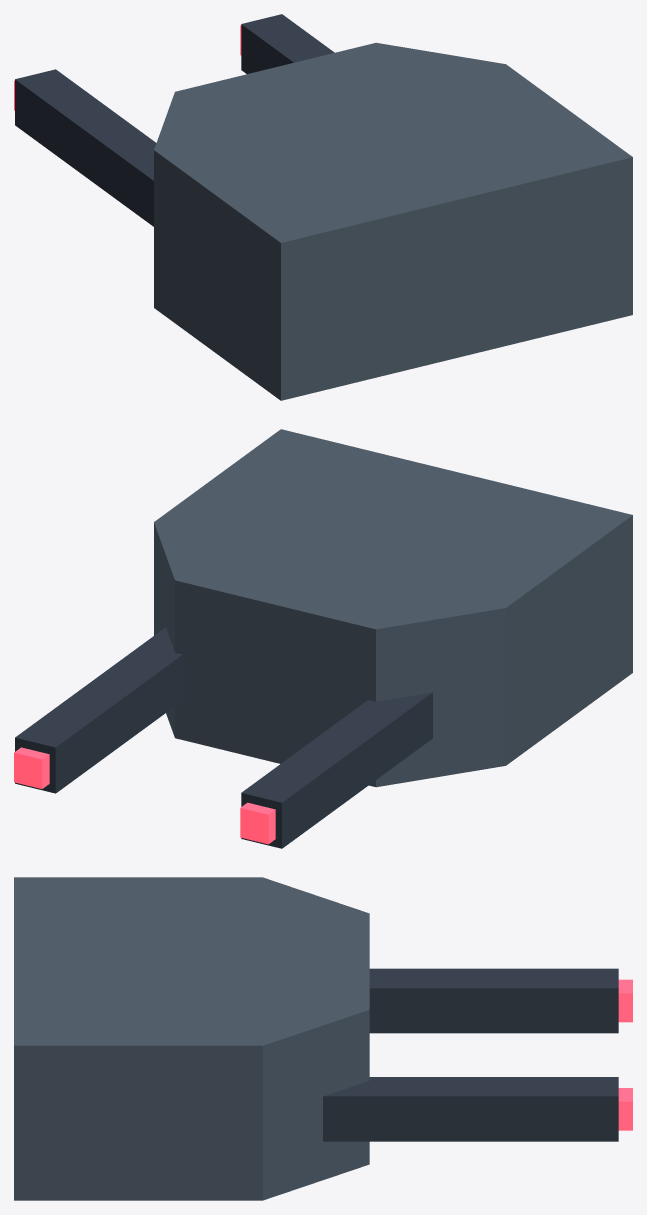
The model's file is sentinel_head.glb.
The picture shows the model from 3 angles, top to bottom: view 1: azimuth 30°, elevation 25°; view 2: azimuth 150°, elevation 25°; view 3: azimuth 270°, elevation 25°; orthographic projection. The views are drawn at different scales.
Visible parts, largest first — view 1: sentinel_head; view 2: sentinel_head; view 3: sentinel_head.
Part boxes in pixels (box(x1,y1,x2,y2)): sentinel_head: box(14, 14, 632, 400); sentinel_head: box(14, 429, 632, 848); sentinel_head: box(14, 877, 632, 1200).
Bounding box in the file's own units: 5.6 × 2.4 × 8.7.
